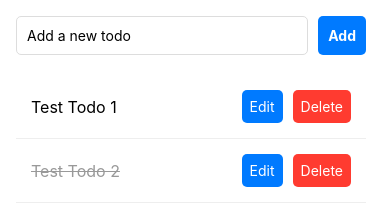
TodoScreen › edits a todo
Click the text "Edit" next to "Test Todo 1".
click(262, 106)  # box [250, 98, 275, 115]
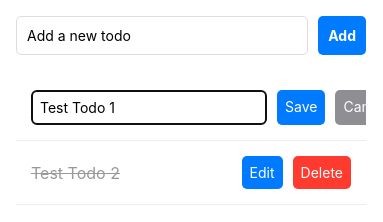
Replace the text in the field showing "Test Todo 1" with "Updated Todo" at (149, 108), box [31, 90, 267, 125]
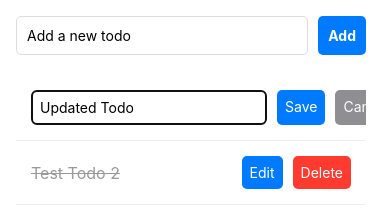
Click the text "Save".
click(301, 106)  # box [285, 98, 317, 115]
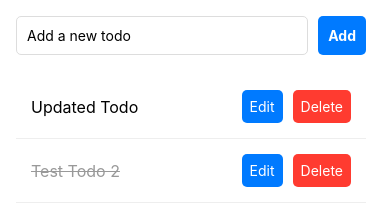
Expected: the text "Updated Todo" is shown, [31, 96, 138, 116]
